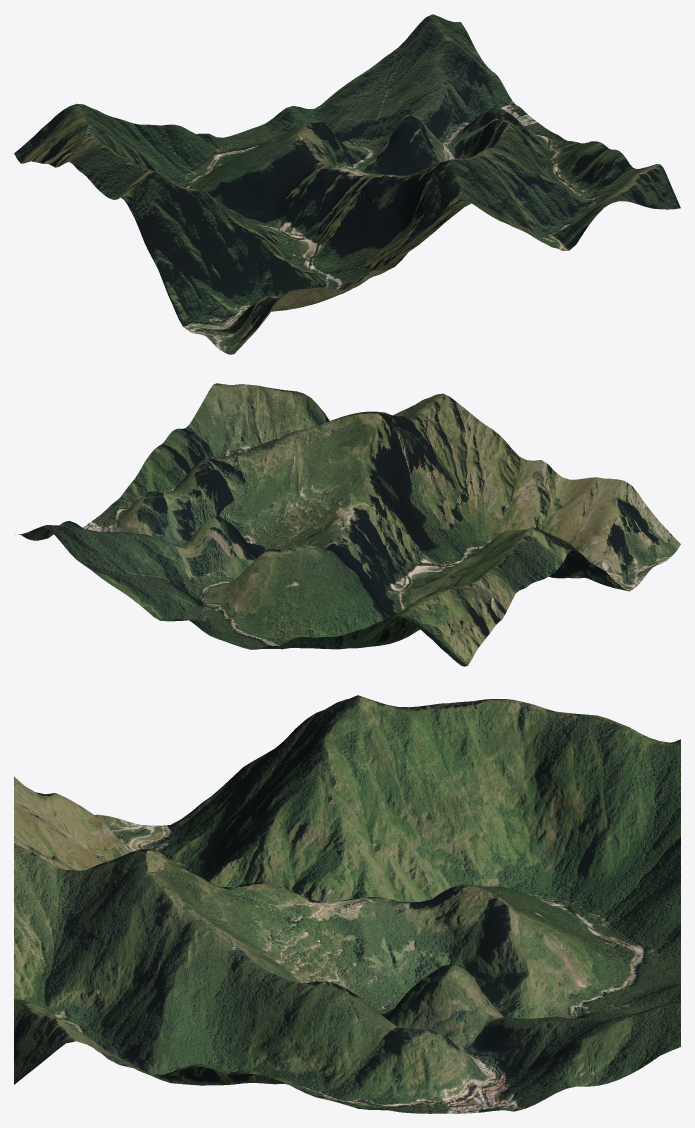
File: machu-picchu.glb
3 renders of one model, top to bottom at view 1: azimuth 30°, elevation 25°; view 2: azimuth 150°, elevation 25°; view 3: azimuth 270°, elevation 25°, orthographic. The views are drawn at different scales.
Visible parts, largest first — view 1: Object_2; view 2: Object_2; view 3: Object_2.
Part boxes in pixels (x1,y1,x2,y2): Object_2: [14, 14, 680, 354]; Object_2: [15, 383, 680, 666]; Object_2: [14, 695, 680, 1113].
Size of the model in its own units: 3898 by 911 by 3325.
Materials: 1 (1 with a texture image).
